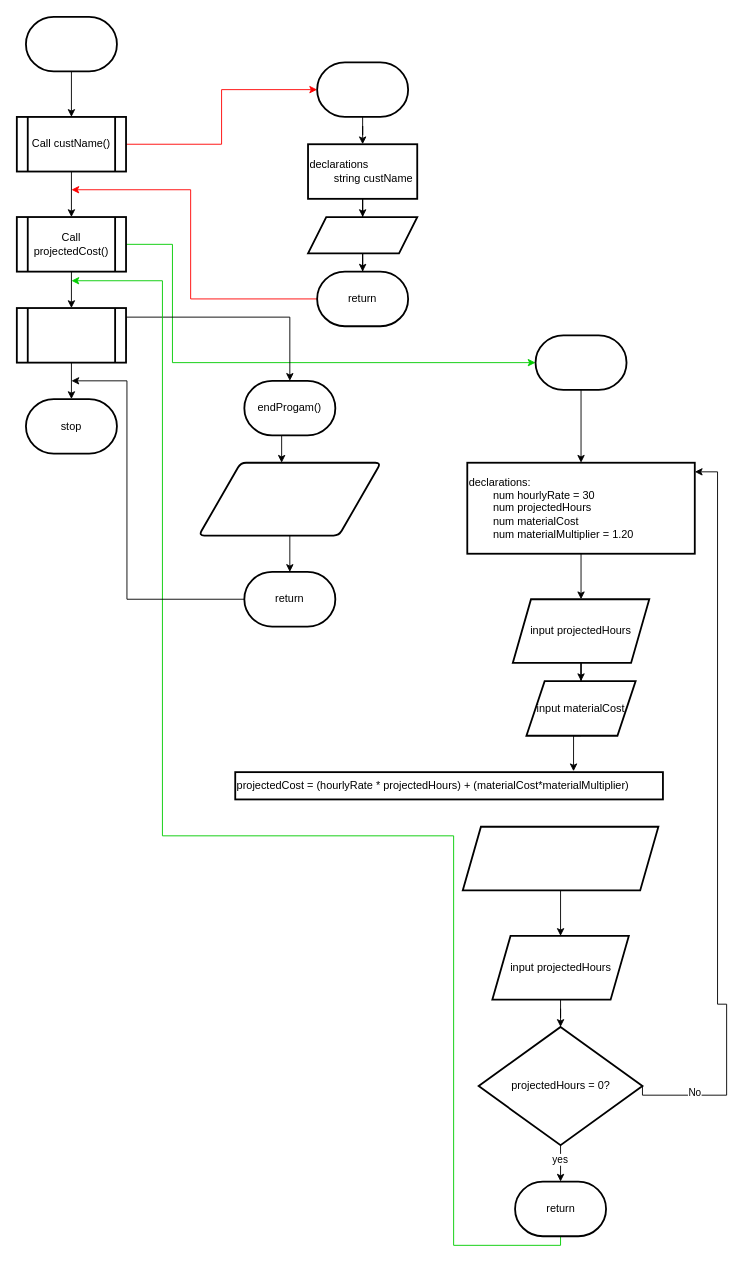
This 750x1269 diagram has some shape labels left out. Here are the shapes that lost their labels. From the top down, the centre of each, then its label:
pixel 71 43: start CustomerQuote()
pixel 362 89: start custName()
pixel 362 235: input custName
pixel 70 335: Call endProgam()
pixel 580 362: start projectedCost()
pixel 289 498: output "Calculations are complete."
pixel 560 858: output projectedCost
